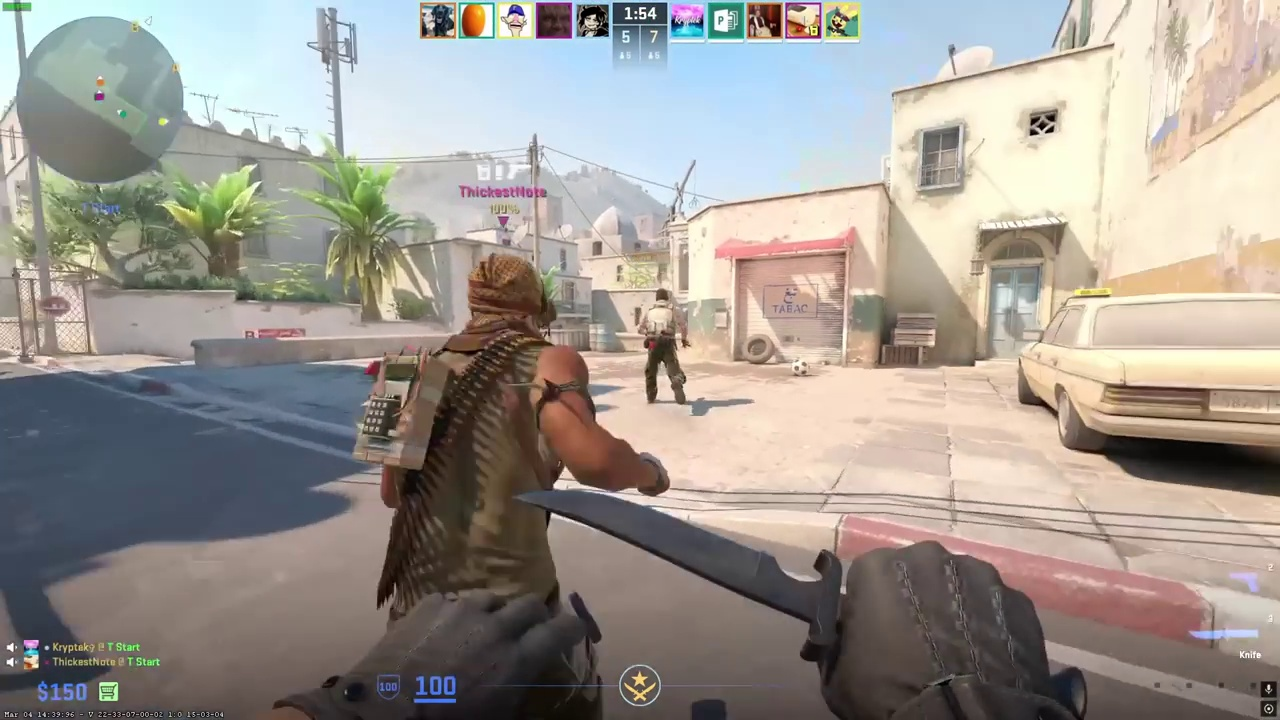Terrorist: (380, 252, 598, 639), (637, 288, 689, 405)
